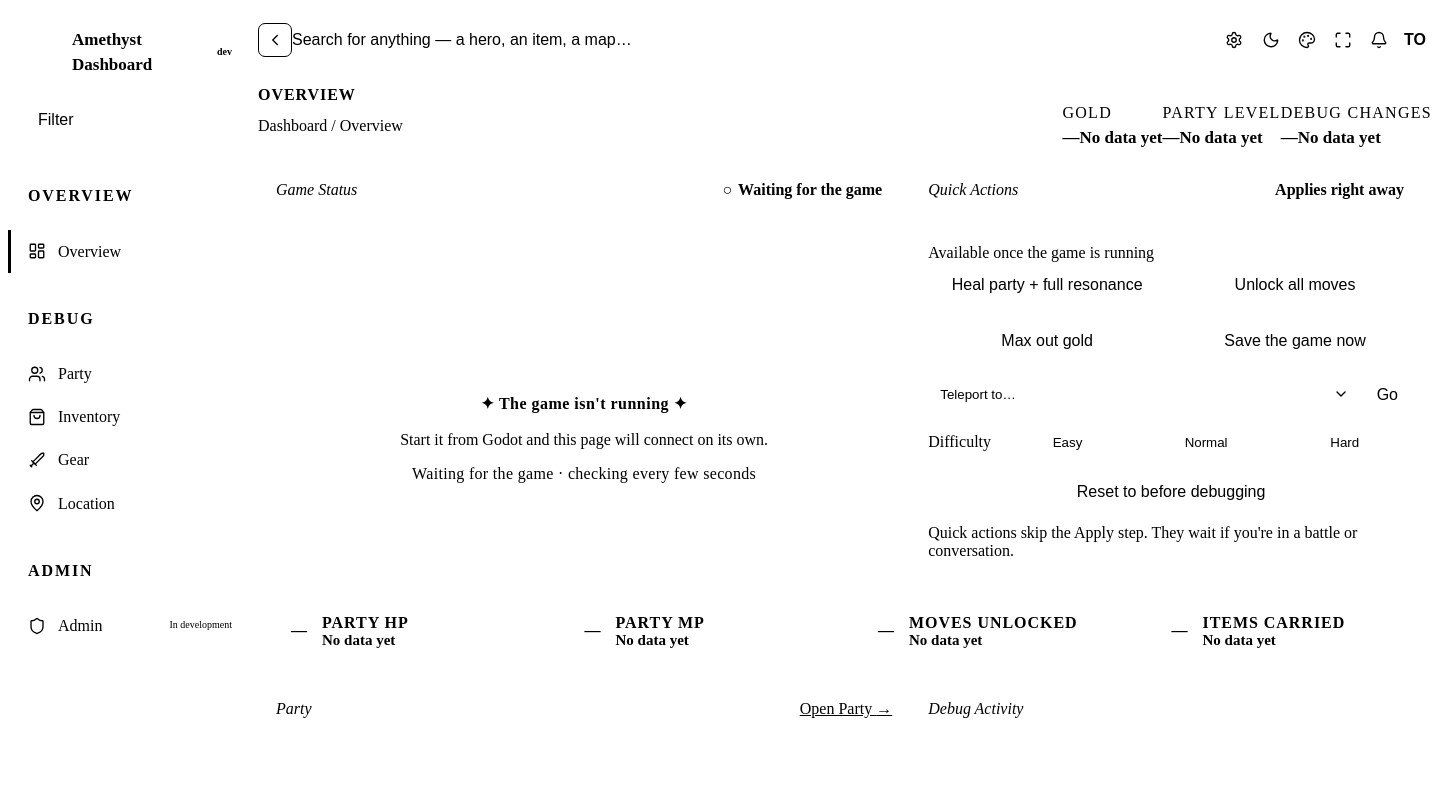
Test case: sidebar › the sidebar shows the three groups and filters
Expected: the text "OVERVIEW" is shown, [28,188,134,204]
Expected: the text "DEBUG" is shown, [28,310,94,327]
Type "gea" into the field with placeholder "Filter" at (145, 120), box [26,99,264,140]
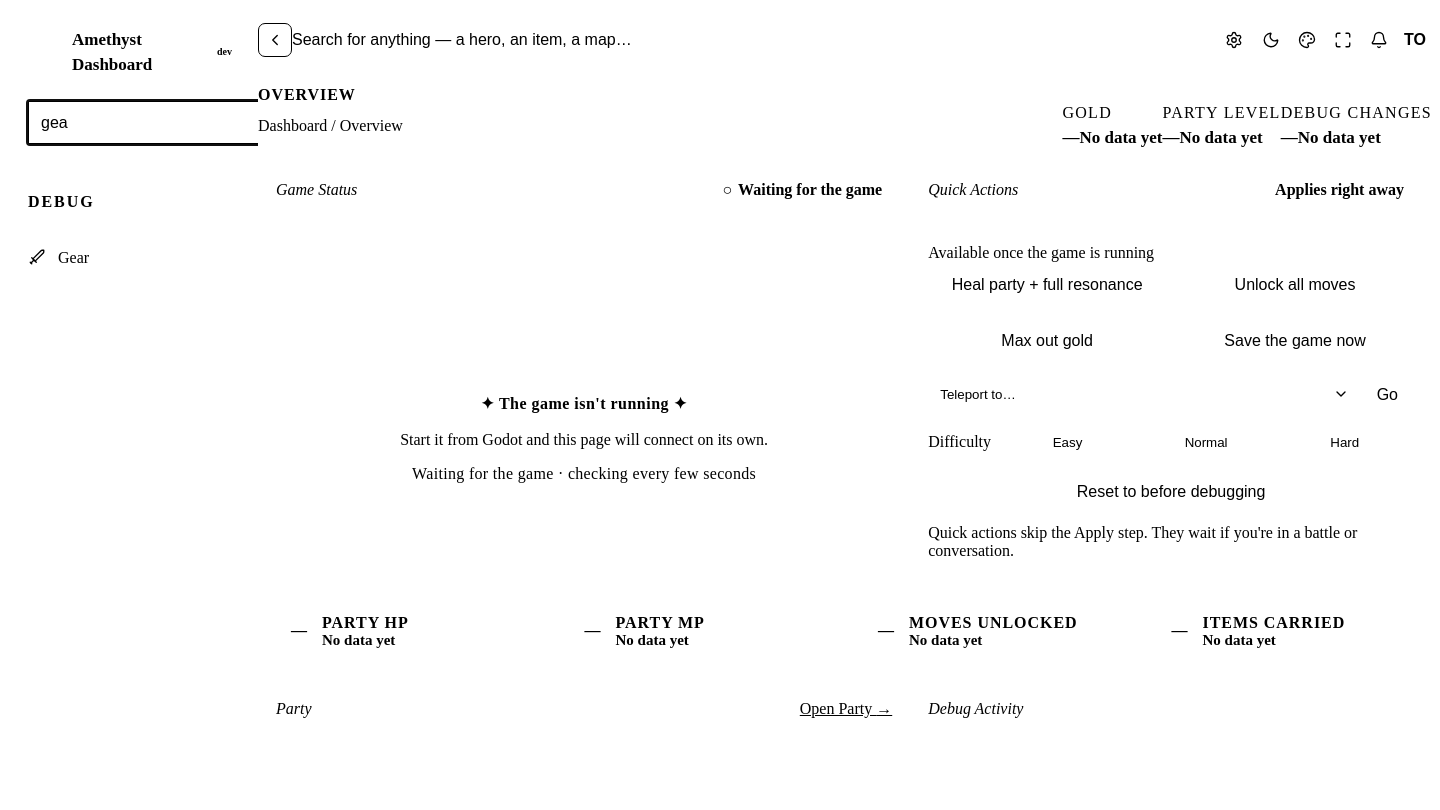
Expected: the link "Gear" is shown, [28,248,89,266]
Result: the text "ADMIN" is gone
